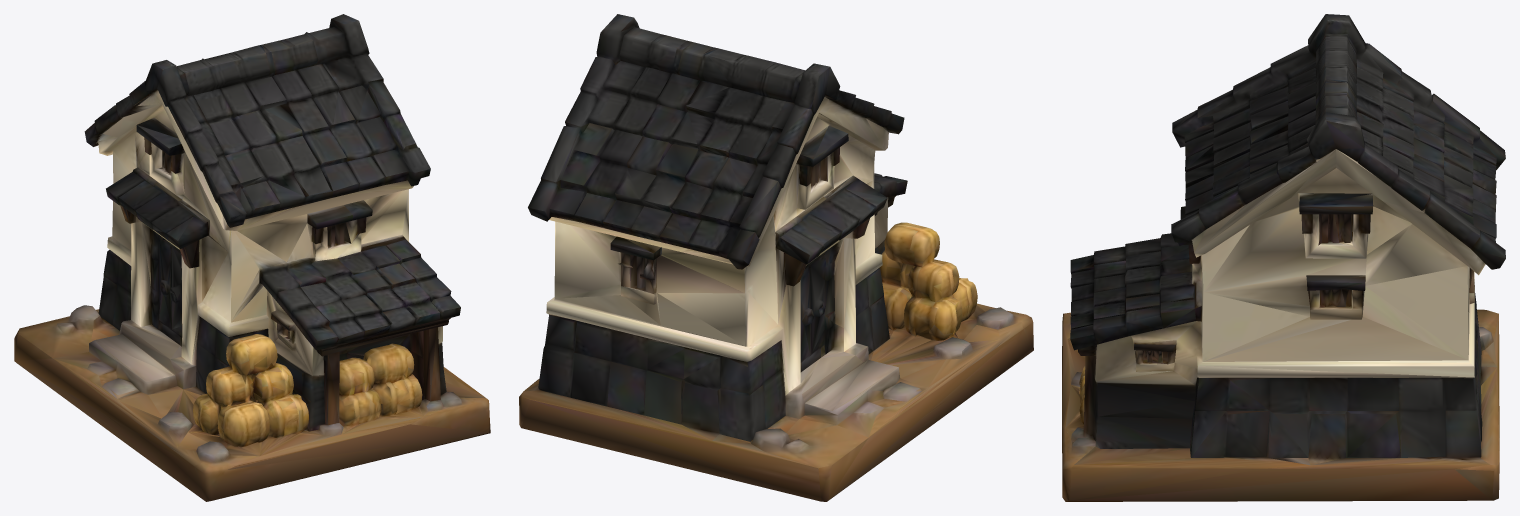
File: kura_t2.glb
The picture shows the model from 3 angles, left to right: view 1: azimuth 30°, elevation 25°; view 2: azimuth 150°, elevation 25°; view 3: azimuth 270°, elevation 25°; orthographic projection. The views are drawn at different scales.
Visible parts, largest first — view 1: tripo_node_809a3e46-8c36-45d9-bf37-ba273112979b; view 2: tripo_node_809a3e46-8c36-45d9-bf37-ba273112979b; view 3: tripo_node_809a3e46-8c36-45d9-bf37-ba273112979b.
Boxes of the visible parts, <box> form: tripo_node_809a3e46-8c36-45d9-bf37-ba273112979b: <box>14,14,490,501</box>; tripo_node_809a3e46-8c36-45d9-bf37-ba273112979b: <box>519,14,1033,501</box>; tripo_node_809a3e46-8c36-45d9-bf37-ba273112979b: <box>1062,14,1505,501</box>.
Size of the model in its own units: 0.8227 by 0.9097 by 0.9778.
Materials: 1 (1 with a texture image).
